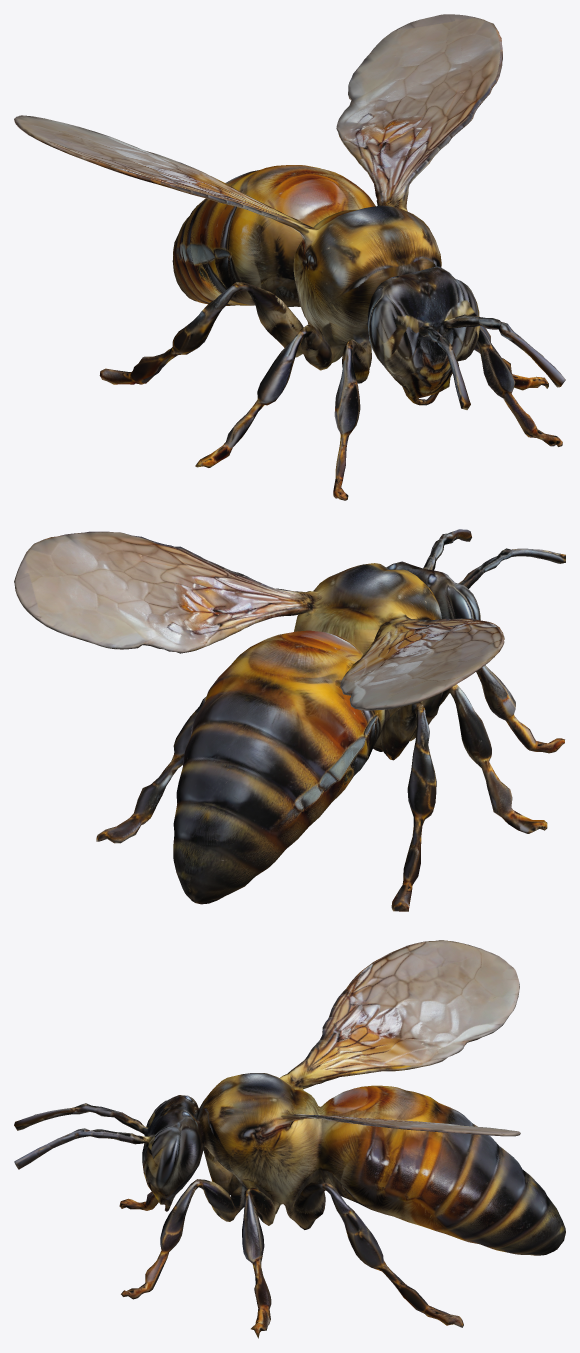
Rendered from Honey_Bee.glb.
The picture shows the model from 3 angles, top to bottom: view 1: azimuth 30°, elevation 25°; view 2: azimuth 150°, elevation 25°; view 3: azimuth 270°, elevation 25°; orthographic projection. The views are drawn at different scales.
Bounding box in the file's own units: 1.64 × 0.9305 × 2.01.
1 material, 1 textured.
